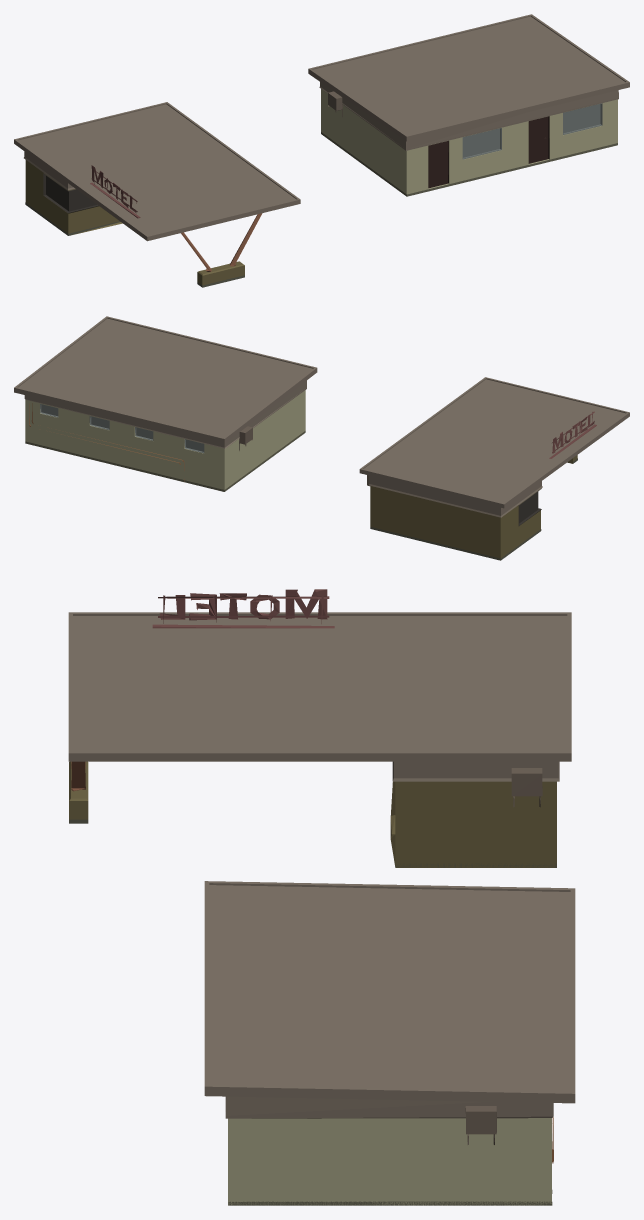
File: modular-motel.lod2.glb
3 renders of one model, top to bottom at view 1: azimuth 30°, elevation 25°; view 2: azimuth 150°, elevation 25°; view 3: azimuth 270°, elevation 25°, orthographic. The views are drawn at different scales.
Parts seen in each view (by area): view 1: ReceptionCabinWindow_ReceptionCabinWindows_0; view 2: ReceptionCabinWindow_ReceptionCabinWindows_0; view 3: ReceptionCabinWindow_ReceptionCabinWindows_0.
Boxes of the visible parts, bbox=[...] form: ReceptionCabinWindow_ReceptionCabinWindows_0: bbox=[14, 14, 629, 287]; ReceptionCabinWindow_ReceptionCabinWindows_0: bbox=[14, 316, 629, 560]; ReceptionCabinWindow_ReceptionCabinWindows_0: bbox=[68, 589, 575, 1205].
Size of the model in its own units: 24.49 by 3.77 by 10.94.
